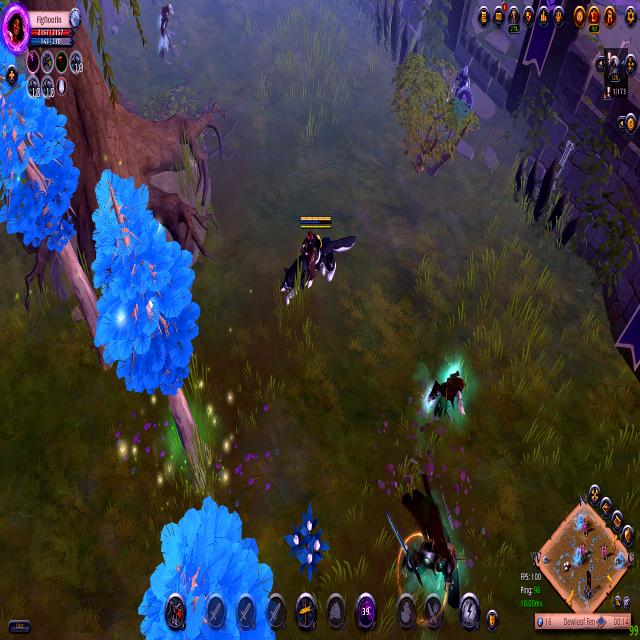hide: (284, 492, 331, 582)
ore: (382, 473, 463, 634), (420, 350, 468, 444), (154, 0, 183, 65)
wisp caged: (90, 158, 219, 496), (0, 25, 125, 373), (136, 493, 278, 640)
